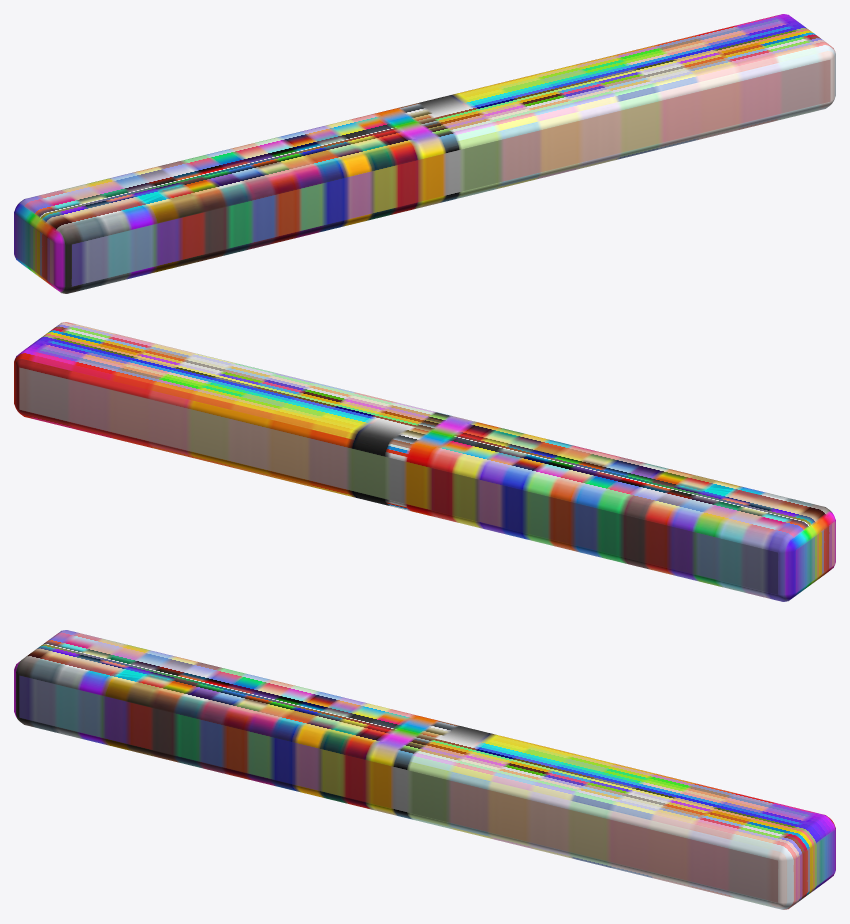
File: TightWayLong.fbx
3 views of the same model, one above another, from view 1: azimuth 30°, elevation 25°; view 2: azimuth 150°, elevation 25°; view 3: azimuth 330°, elevation 25° (orthographic).
Parts seen in each view (by area): view 1: Circle.002; view 2: Circle.002; view 3: Circle.002.
Boxes of the visible parts, x1,y1,x2,y2 form: Circle.002: (14, 14, 835, 293); Circle.002: (14, 322, 835, 601); Circle.002: (14, 630, 835, 909).
Size of the model in its own units: 8.65 by 0.702 by 1.
